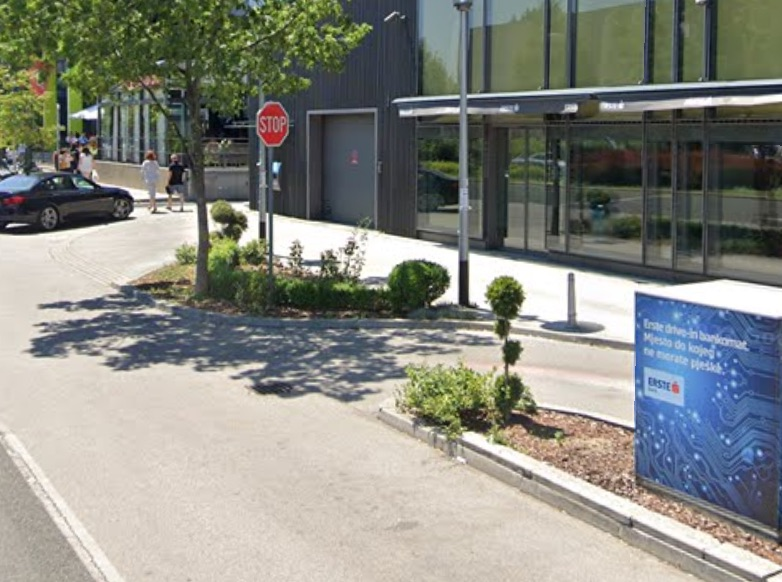Obavezno zaustavljanje: (257, 101, 289, 147)
